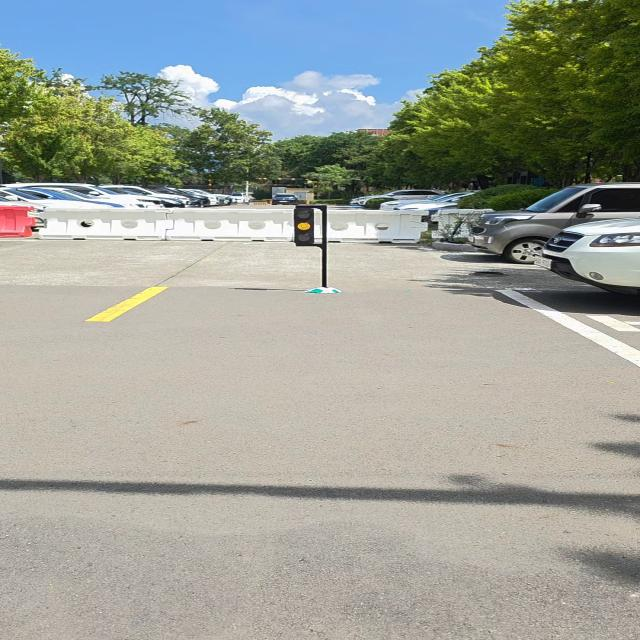yellow: (293, 208, 315, 244)
